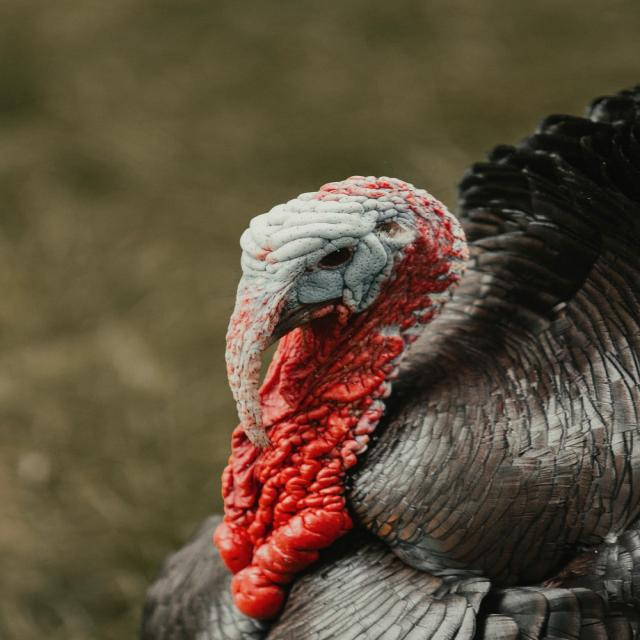turkey: (142, 88, 639, 640)
